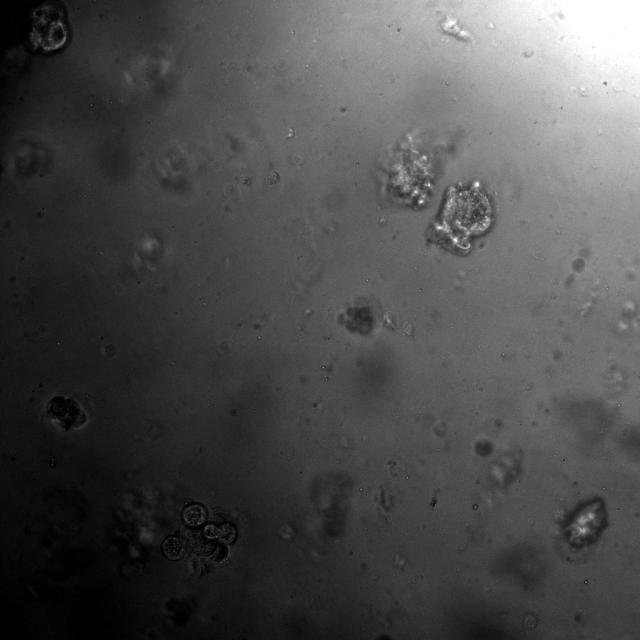organoid: (377, 130, 454, 209), (161, 501, 238, 574), (112, 485, 179, 562), (428, 181, 494, 255), (29, 0, 70, 54), (564, 498, 608, 547), (14, 140, 52, 177), (46, 396, 86, 430), (339, 306, 374, 335), (439, 14, 472, 41), (474, 438, 492, 457), (101, 344, 115, 356)
